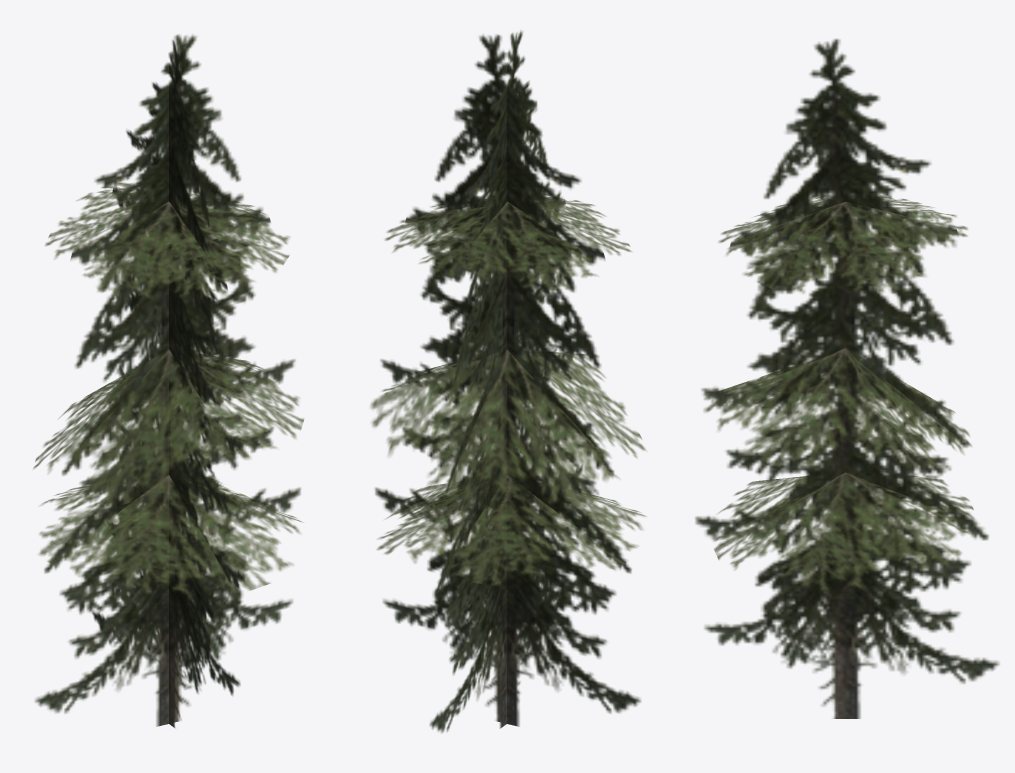
The model's file is tree_03.glb.
3 views of the same model, side by side, from view 1: azimuth 30°, elevation 25°; view 2: azimuth 150°, elevation 25°; view 3: azimuth 270°, elevation 25° (orthographic).
Visible parts, largest first — view 1: Background_Tree_Atlas.002_Background_Tree_Atlas_0; view 2: Background_Tree_Atlas.002_Background_Tree_Atlas_0; view 3: Background_Tree_Atlas.002_Background_Tree_Atlas_0.
Part boxes in pixels (x1,y1,x2,y2): Background_Tree_Atlas.002_Background_Tree_Atlas_0: (33, 34, 304, 727); Background_Tree_Atlas.002_Background_Tree_Atlas_0: (370, 31, 646, 732); Background_Tree_Atlas.002_Background_Tree_Atlas_0: (695, 39, 999, 718).
Bounding box in the file's own units: 7.43 × 18.22 × 7.44.
Materials: 1 (1 with a texture image).
